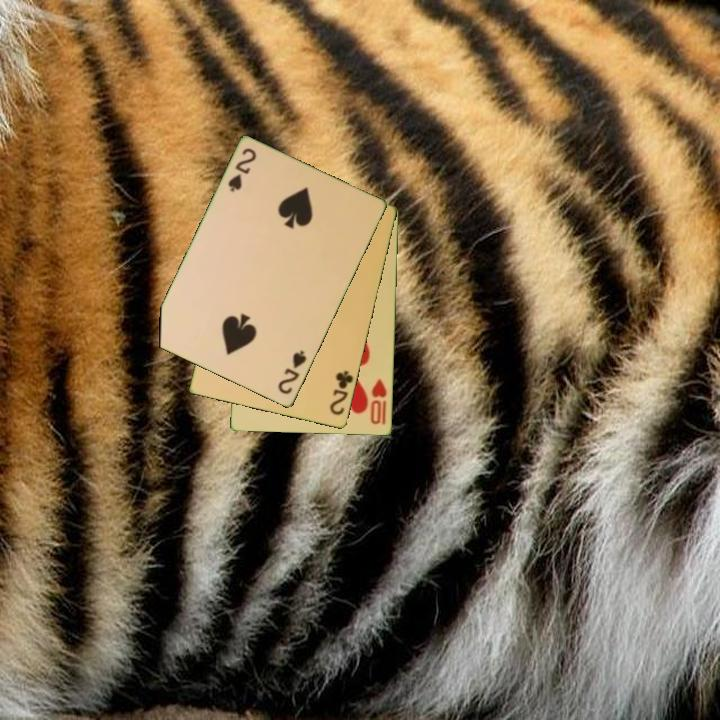10h: (367, 375, 390, 428)
2c: (326, 367, 356, 418)
2s: (275, 347, 310, 398), (224, 145, 259, 195)
